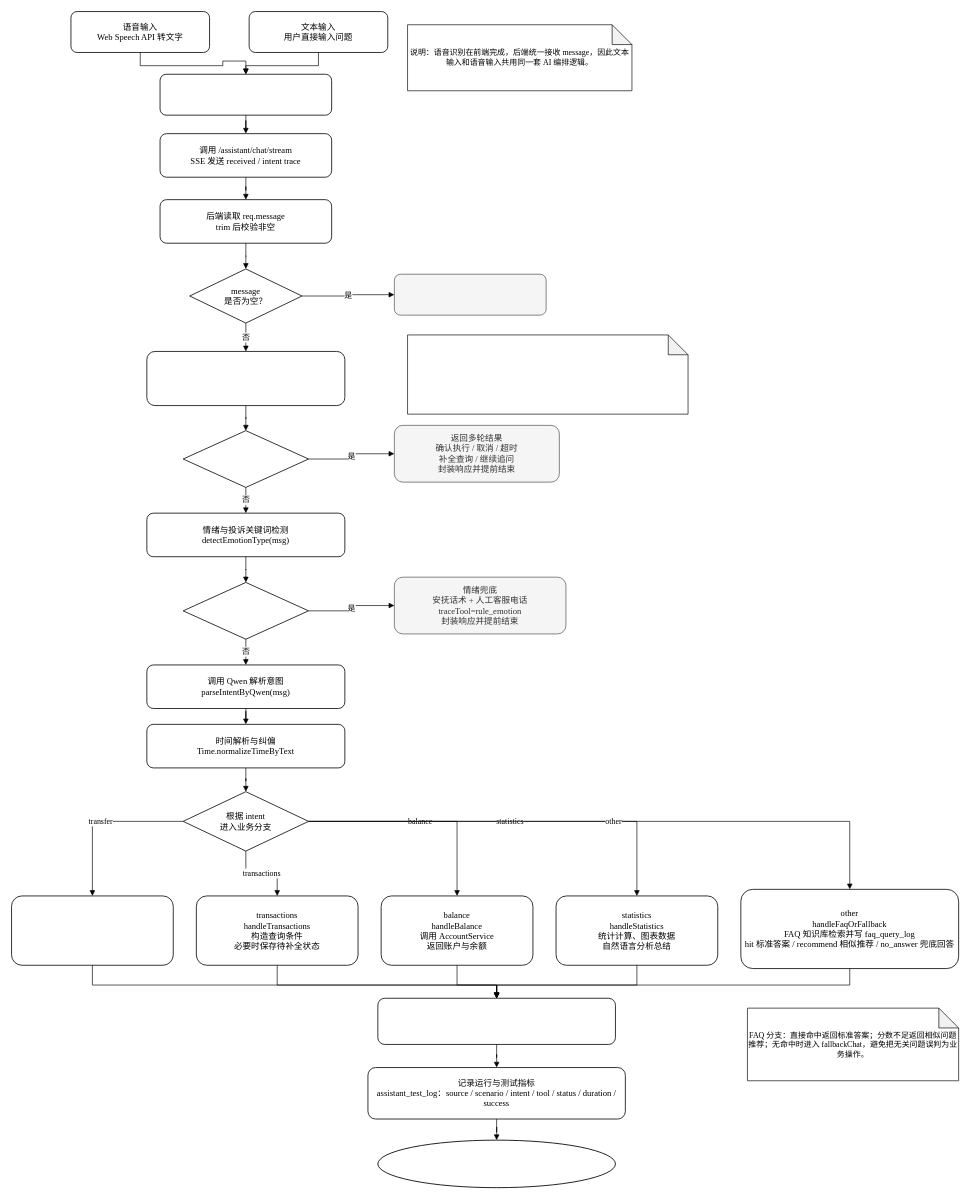
Some shapes in this 971 by 1200 pixel diagram are drawn without their labels. The shapes that lost their labels are listed below. From the top down, each one's box as (x1, y1, x2, y2) in pixels, then its label:
(159, 74, 332, 115): 前端得到 message 可携带匿名测试任务信息
(394, 274, 546, 315): 为空：返回参数错误 message 不能为空
(146, 351, 345, 406): 多轮状态优先处理 1. handlePendingTransfer 2. handlePendingTransactionQuery
(407, 334, 688, 414): 执行顺序：多轮状态优先，其次情绪兜底，再调用大模型解析新意图；FAQ 只处理 intent=other 的常见咨询。
(182, 430, 309, 487): 是否命中 待确认/待补全状态？
(182, 582, 309, 639): 是否包含 投诉/生气/担心？
(11, 895, 173, 965): transfer handleTransfer 收款人/金额/历史金额复用 账户与余额校验，写入待确认状态
(377, 998, 616, 1045): 封装 AssistantChatResponse reply / trace / explain / chartData / exportUrl
(377, 1139, 616, 1188): SSE 返回 message / error / done 前端展示回复、过程追踪、图表或确认按钮
